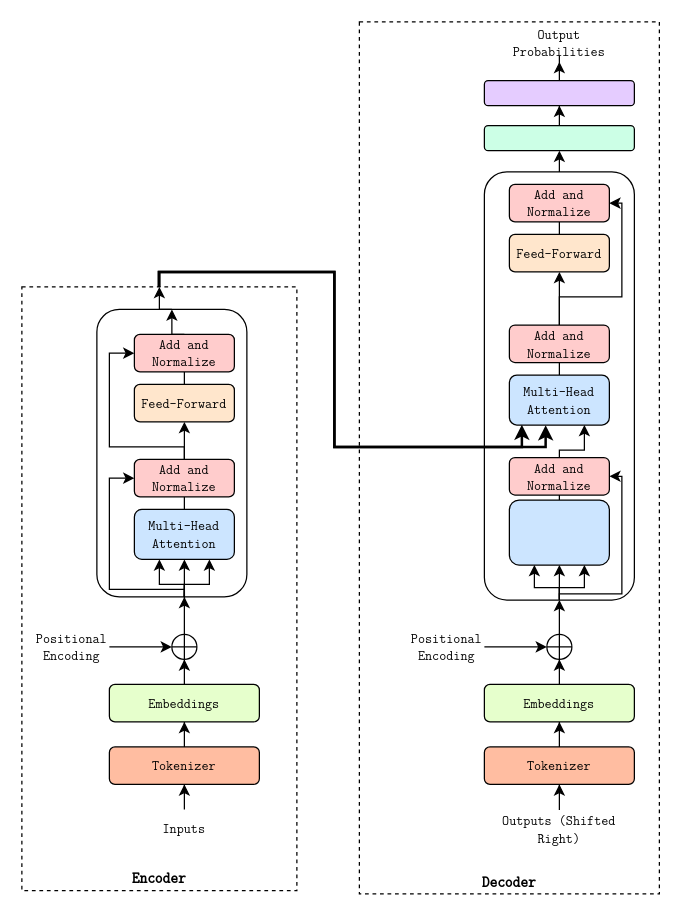
The diagram is 681 pixels wide and 916 high, and some of its shapes have lost their labels. The shapes that lost their labels are listed below. From the top down, each one's centre as x and y in pixels, then its label:
At (558,92): "Softmax".
At (558,137): "Linear".
At (558,532): "Masked Multi-Head Attention".
